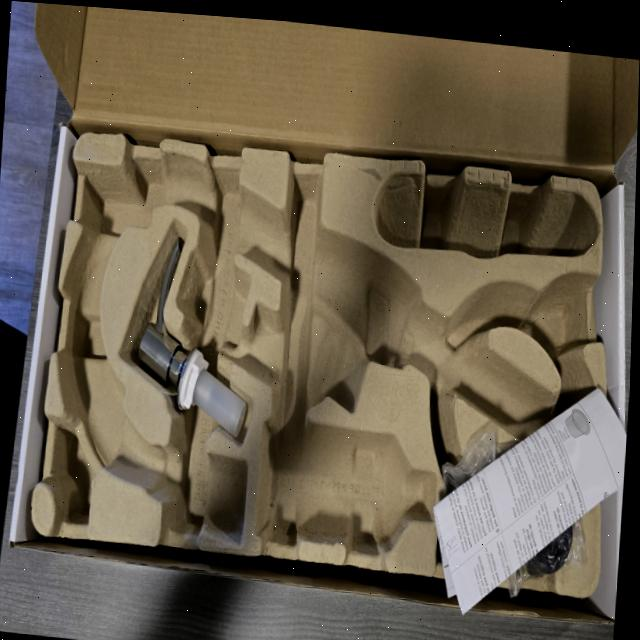1m: (53, 155, 604, 538)
2: (133, 237, 247, 439)
3m: (256, 419, 434, 548)
4m: (373, 169, 599, 259)
5m: (523, 277, 581, 351)
6o: (442, 418, 500, 559)
7o: (494, 433, 591, 604)
8: (433, 381, 626, 614)
